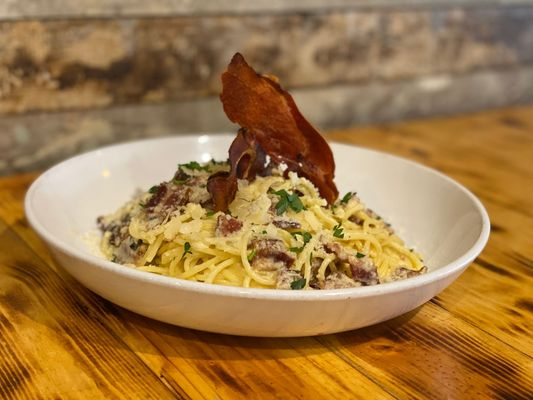soup: (218, 50, 340, 208)
sushi: (31, 129, 476, 340)
